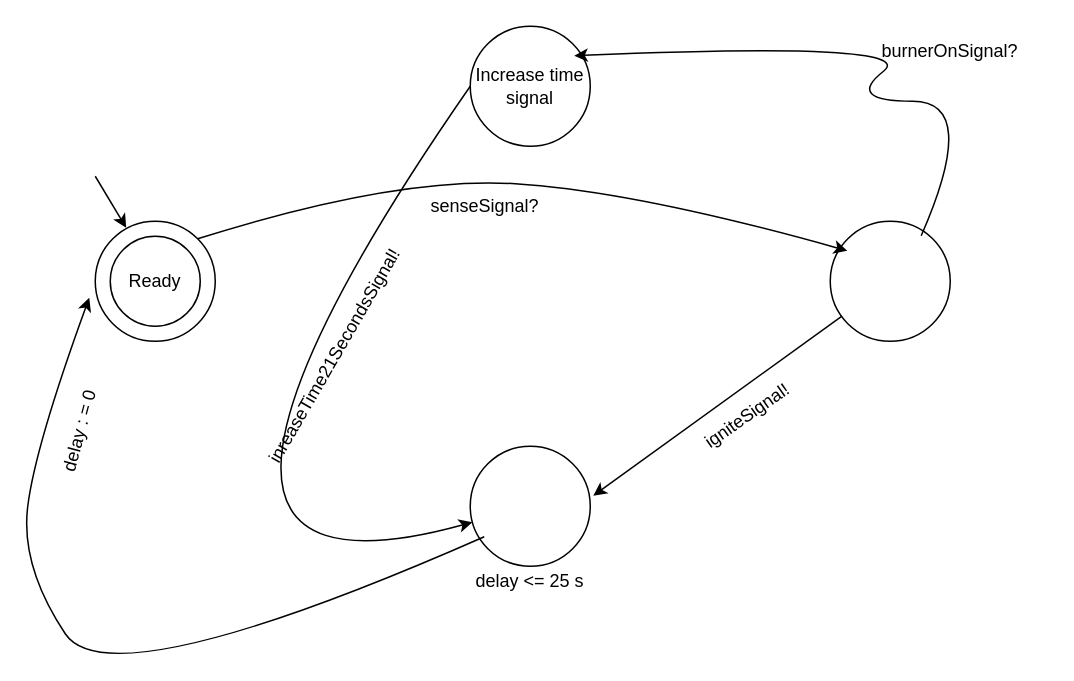
This 1074x681 diagram has some shape labels left out. Each missing label, with the centre of its shape:
"Hibernate" belongs at [529,505].
"Send Ignite Signal" belongs at [889,280].
